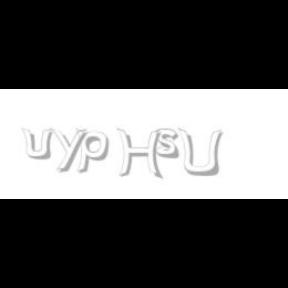H: (117, 128, 163, 180)
U: (176, 128, 222, 178)
p: (76, 128, 112, 174)
s: (155, 128, 183, 160)
u: (21, 128, 56, 160)
y: (51, 128, 91, 172)
